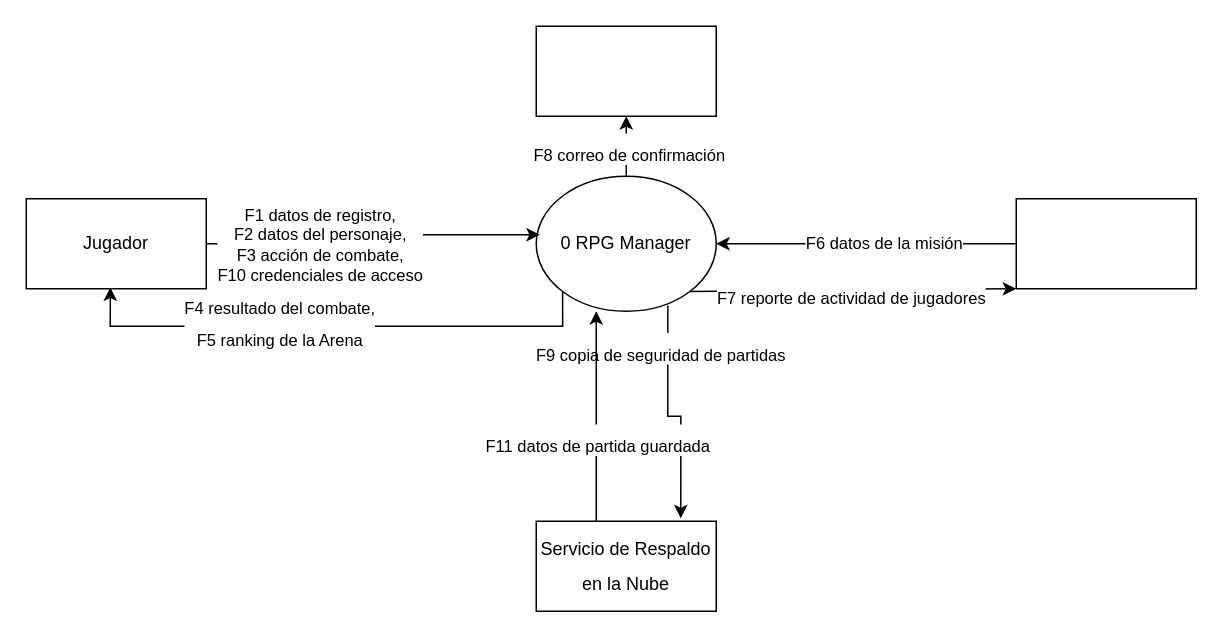
This 1223x638 diagram has some shape labels left out. The box of each missing label's shape, as (x1, y1, x2, y2) in pixels:
Game Master: (1015, 197, 1196, 289)
Servicio de Correo: (535, 25, 716, 116)
